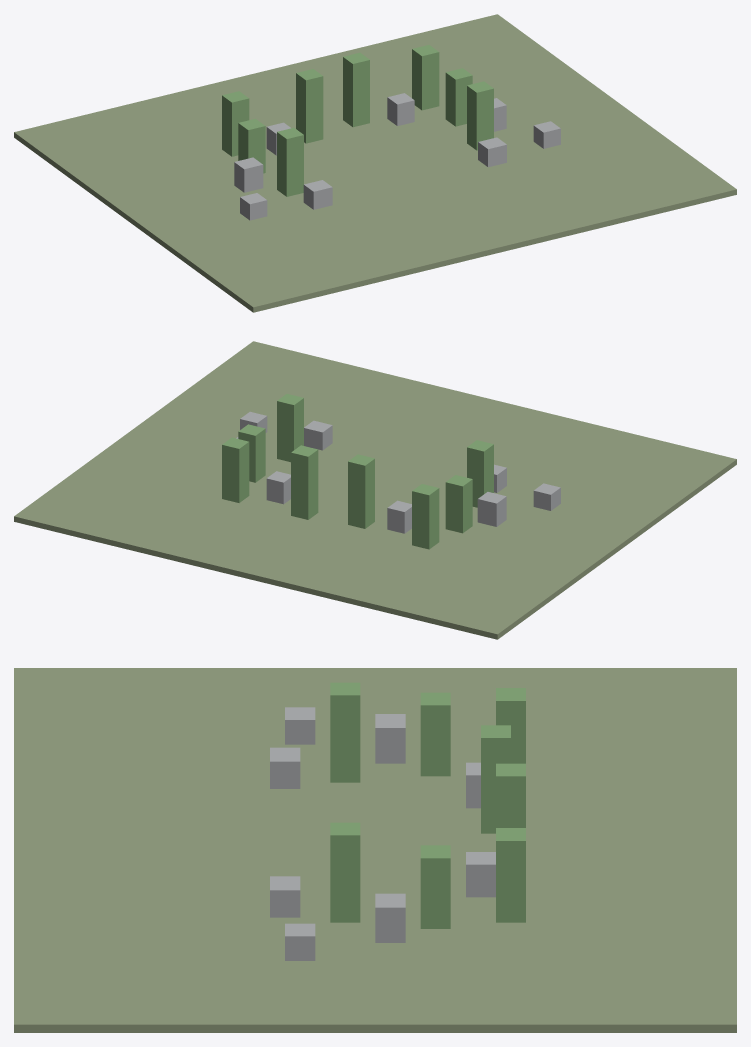
Rendered from field-low.gltf.
3 renders of one model, top to bottom at view 1: azimuth 30°, elevation 25°; view 2: azimuth 150°, elevation 25°; view 3: azimuth 270°, elevation 25°, orthographic. The views are drawn at different scales.
Parts seen in each view (by area): view 1: ground, tree-b1, tree-b2, tree-l1, tree-b4, tree-r1, tree-b3, tree-r2, tree-l2, rock-l2, rock-b2, rock-l1 (+3 smaller); view 2: ground, tree-b2, tree-b1, tree-b4, tree-b3, tree-r1, tree-l2, tree-l1, tree-r2, rock-l2, rock-r1, rock-b2 (+2 smaller); view 3: ground, tree-r1, tree-l1, tree-b4, tree-l2, tree-r2, tree-b1, tree-b2, tree-b3, rock-r2, rock-l2, rock-b2 (+5 smaller).
Boxes of the visible parts, box(x1,y1,x2,y2) form: ground: box(14, 14, 736, 312); tree-b1: box(296, 69, 323, 143); tree-b2: box(343, 52, 369, 127); tree-l1: box(277, 127, 303, 196); tree-b4: box(412, 45, 439, 110); tree-r1: box(467, 81, 493, 150); tree-b3: box(222, 91, 249, 156); tree-r2: box(445, 68, 472, 126); tree-l2: box(238, 118, 265, 173); rock-l2: box(234, 157, 263, 192); rock-b2: box(387, 93, 414, 125); rock-l1: box(303, 180, 332, 209); ground: box(14, 341, 736, 639); tree-b2: box(291, 445, 318, 519); tree-b1: box(348, 454, 374, 528); tree-b4: box(222, 437, 249, 502); tree-b3: box(412, 484, 439, 549); tree-r1: box(277, 394, 303, 462); tree-l2: box(445, 475, 472, 533); tree-l1: box(467, 440, 493, 507); tree-r2: box(238, 424, 265, 482); rock-l2: box(477, 492, 506, 526); rock-r1: box(304, 420, 332, 450); rock-b2: box(266, 471, 290, 504); ground: box(14, 668, 736, 1032); tree-r1: box(330, 822, 360, 922); tree-l1: box(330, 682, 360, 782); tree-b4: box(496, 828, 525, 922); tree-l2: box(420, 692, 450, 776); tree-r2: box(420, 845, 450, 928); tree-b1: box(481, 725, 510, 833); tree-b2: box(496, 763, 525, 827); tree-b3: box(496, 688, 525, 763); rock-r2: box(375, 893, 405, 942); rock-l2: box(375, 714, 405, 763); rock-b2: box(466, 852, 495, 897).
Bounding box in the file's own units: 28 × 3.8 × 24.
